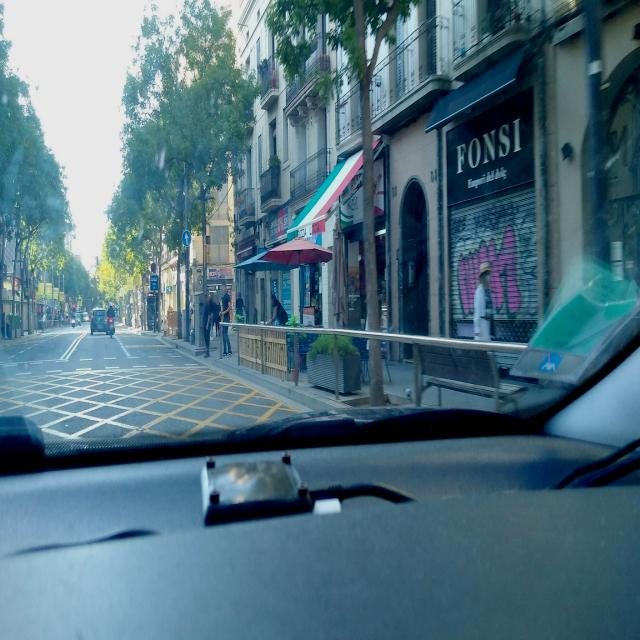car: (90, 306, 109, 336)
